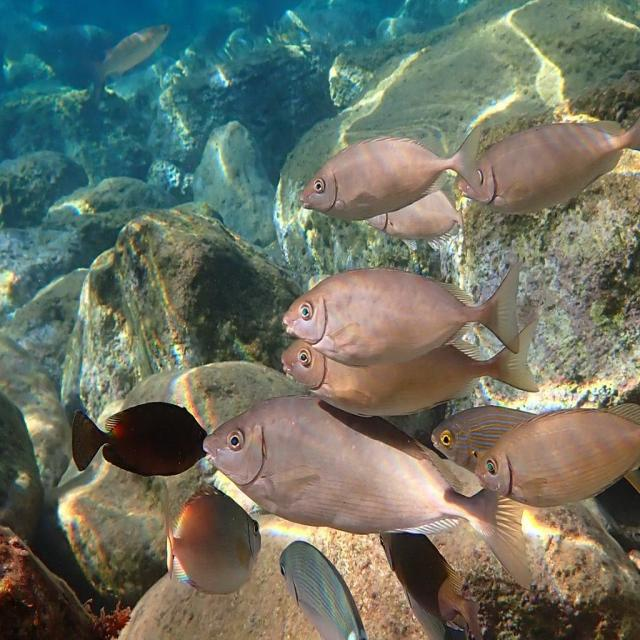Sokar Baligi: (278, 254, 532, 366), (287, 116, 483, 220)
